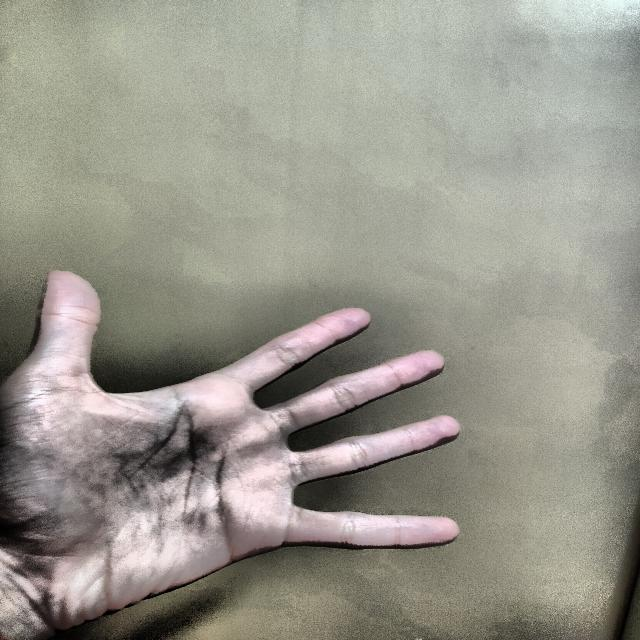not-gloved: (0, 257, 471, 640)
